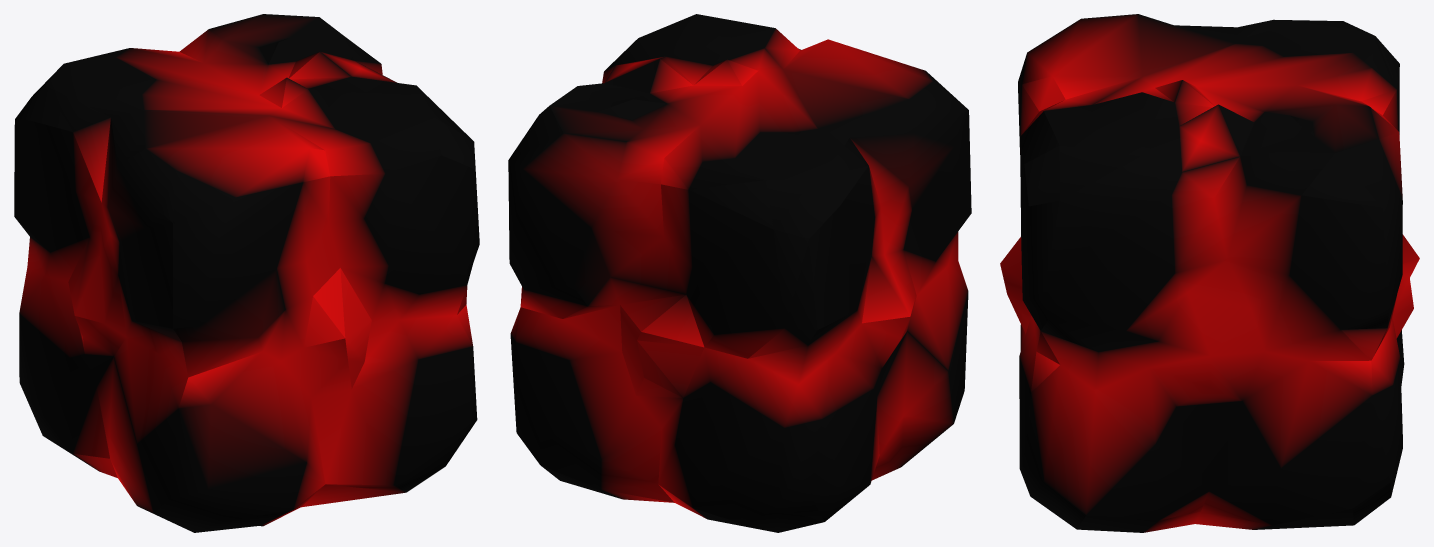
File: ore_mesh.glb
The picture shows the model from 3 angles, left to right: view 1: azimuth 30°, elevation 25°; view 2: azimuth 150°, elevation 25°; view 3: azimuth 270°, elevation 25°; orthographic projection. The views are drawn at different scales.
Parts seen in each view (by area): view 1: Mesh1.0; view 2: Mesh1.0; view 3: Mesh1.0.
Boxes of the visible parts, x1,y1,x2,y2 form: Mesh1.0: (14, 14, 479, 532); Mesh1.0: (508, 14, 971, 532); Mesh1.0: (1000, 14, 1419, 532).
Size of the model in its own units: 1.18 by 1.33 by 1.2.
